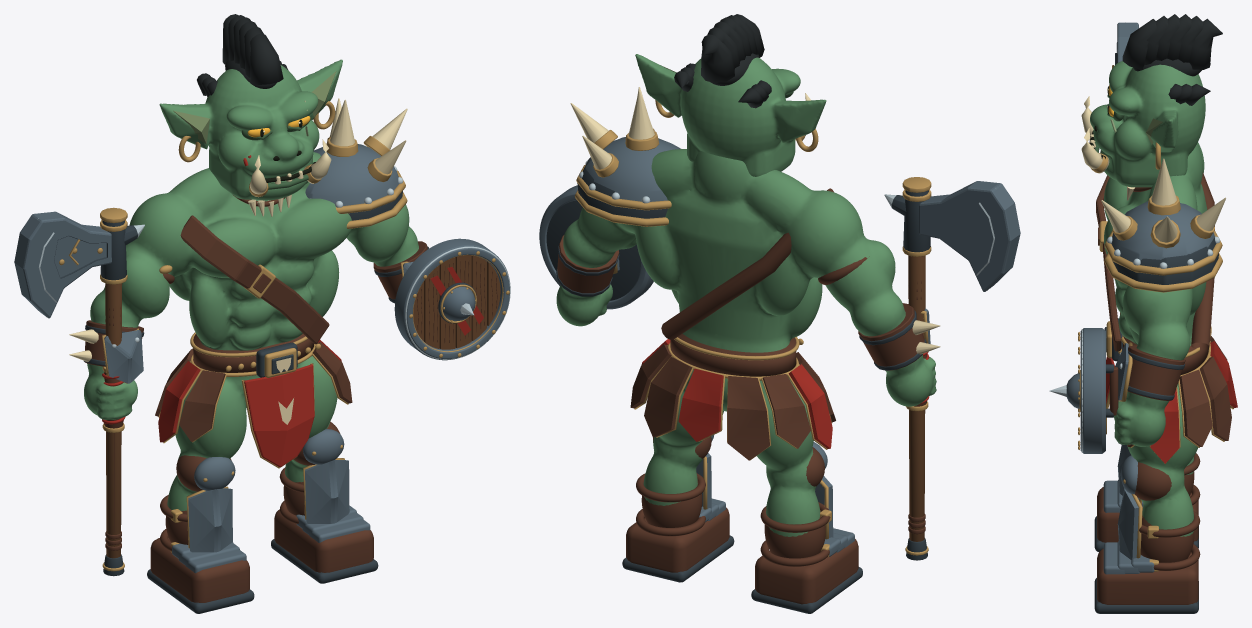
Rendered from orc_warrior.glb.
3 views of the same model, side by side, from view 1: azimuth 30°, elevation 25°; view 2: azimuth 150°, elevation 25°; view 3: azimuth 270°, elevation 25° (orthographic). The views are drawn at different scales.
Visible parts, largest first — view 1: ORC • unified muscular body, ORC • sculpted head & pointed ears, Axe | broad forged blade, Crimson split war tabard, Diagonal leather baldric, Shield | broad forged rim, Broad leather boot, Broad leather boot.001, Pauldron sculpted steel dome, Axe | ashwood haft, Ridged steel shin guard, Ridged steel shin guard.001 (+21 smaller); view 2: ORC • unified muscular body, ORC • sculpted head & pointed ears, Axe | broad forged blade, Broad leather boot, Broad leather boot.001, Rear harness, Axe | ashwood haft, Layered leather tasset 04, Pauldron sculpted steel dome, Broad waist belt, Layered leather tasset 03, Layered leather tasset 02 (+22 smaller); view 3: ORC • unified muscular body, ORC • sculpted head & pointed ears, Broad leather boot.001, Shield | broad forged rim, Pauldron sculpted steel dome, Layered leather tasset 01, Bracer leather sleeve.001, Pauldron lower iron skirt, Layered leather tasset 02, Boot upper shaft.001, Rear harness, Ridged steel shin guard.001 (+39 smaller).
Boxes of the visible parts, box(x1,y1,x2,y2) form: ORC • unified muscular body: box(84, 152, 418, 511); ORC • sculpted head & pointed ears: box(159, 59, 342, 200); Axe | broad forged blade: box(14, 211, 111, 318); Crimson split war tabard: box(244, 364, 314, 466); Diagonal leather baldric: box(180, 215, 329, 344); Shield | broad forged rim: box(394, 238, 510, 360); Broad leather boot: box(150, 537, 249, 602); Broad leather boot.001: box(274, 509, 373, 572); Pauldron sculpted steel dome: box(305, 144, 398, 205); Axe | ashwood haft: box(105, 283, 122, 558); Ridged steel shin guard: box(188, 488, 232, 552); Ridged steel shin guard.001: box(305, 460, 349, 523); ORC • unified muscular body: box(556, 149, 936, 536); ORC • sculpted head & pointed ears: box(635, 54, 826, 176); Axe | broad forged blade: box(919, 181, 1020, 291); Broad leather boot: box(755, 539, 858, 604); Broad leather boot.001: box(626, 507, 729, 572); Rear harness: box(661, 232, 791, 339); Axe | ashwood haft: box(908, 255, 925, 541); Layered leather tasset 04: box(727, 376, 769, 460); Pauldron sculpted steel dome: box(585, 137, 680, 201); Broad waist belt: box(670, 334, 796, 376); Layered leather tasset 03: box(678, 368, 723, 441); Layered leather tasset 02: box(644, 357, 692, 437); ORC • unified muscular body: box(1104, 142, 1207, 536); ORC • sculpted head & pointed ears: box(1090, 61, 1205, 187); Broad leather boot.001: box(1097, 548, 1198, 604); Shield | broad forged rim: box(1080, 328, 1105, 453); Pauldron sculpted steel dome: box(1111, 201, 1214, 262); Layered leather tasset 01: box(1179, 369, 1212, 446); Bracer leather sleeve.001: box(1128, 345, 1185, 400); Pauldron lower iron skirt: box(1112, 237, 1218, 284); Layered leather tasset 02: box(1199, 356, 1231, 440); Boot upper shaft.001: box(1140, 515, 1194, 562); Rear harness: box(1191, 172, 1214, 349); Ridged steel shin guard.001: box(1117, 488, 1139, 559).
Size of the model in its own units: 5.89 by 6.52 by 2.01.
